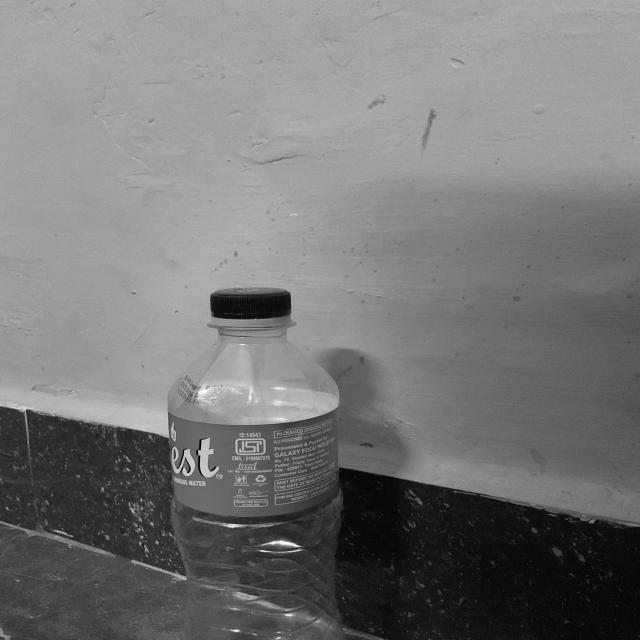Good-cap-Df0S: (206, 288, 297, 330)
